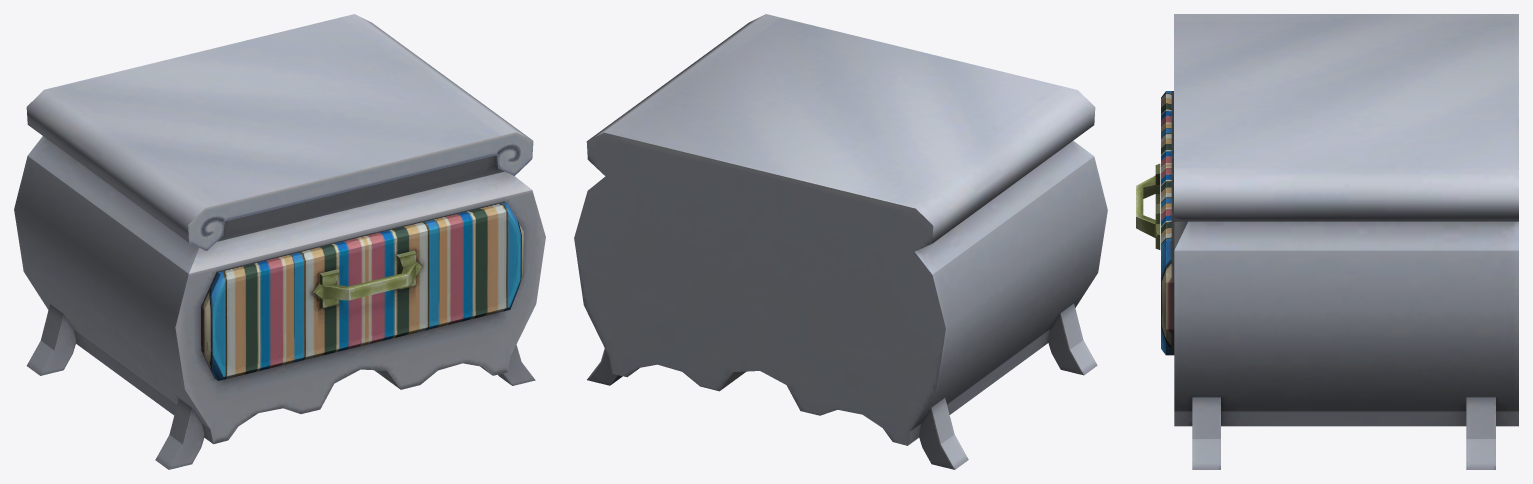
File: furni_0200608.FBX
The picture shows the model from 3 angles, left to right: view 1: azimuth 30°, elevation 25°; view 2: azimuth 150°, elevation 25°; view 3: azimuth 270°, elevation 25°; orthographic projection. The views are drawn at different scales.
Parts seen in each view (by area): view 1: furni_0200608; view 2: furni_0200608; view 3: furni_0200608.
Part boxes in pixels (x1,y1,x2,y2): furni_0200608: (14,14,545,469); furni_0200608: (574,14,1107,469); furni_0200608: (1136,14,1518,469).
Size of the model in its own units: 74.18 by 50 by 62.13.
1 material, 1 textured.
